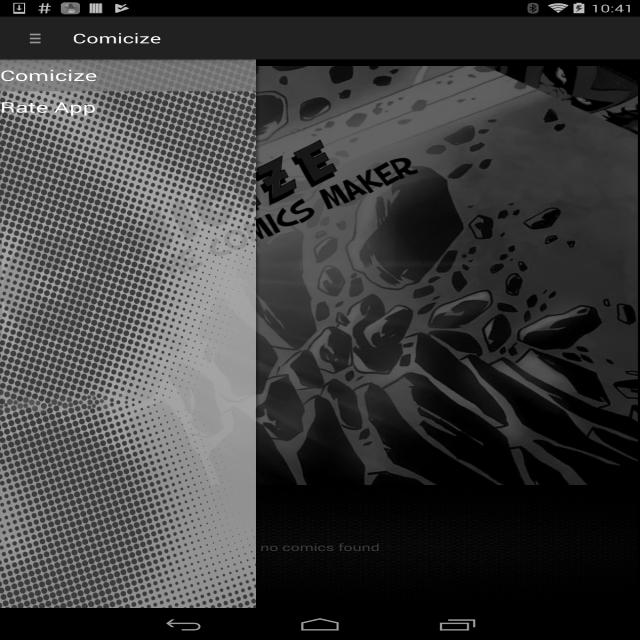ImageButton: (9, 17, 68, 59), (7, 535, 55, 562)
ImageView: (2, 66, 638, 485)
TextView: (0, 59, 256, 92), (0, 91, 256, 123), (260, 540, 380, 554), (73, 29, 161, 47)
